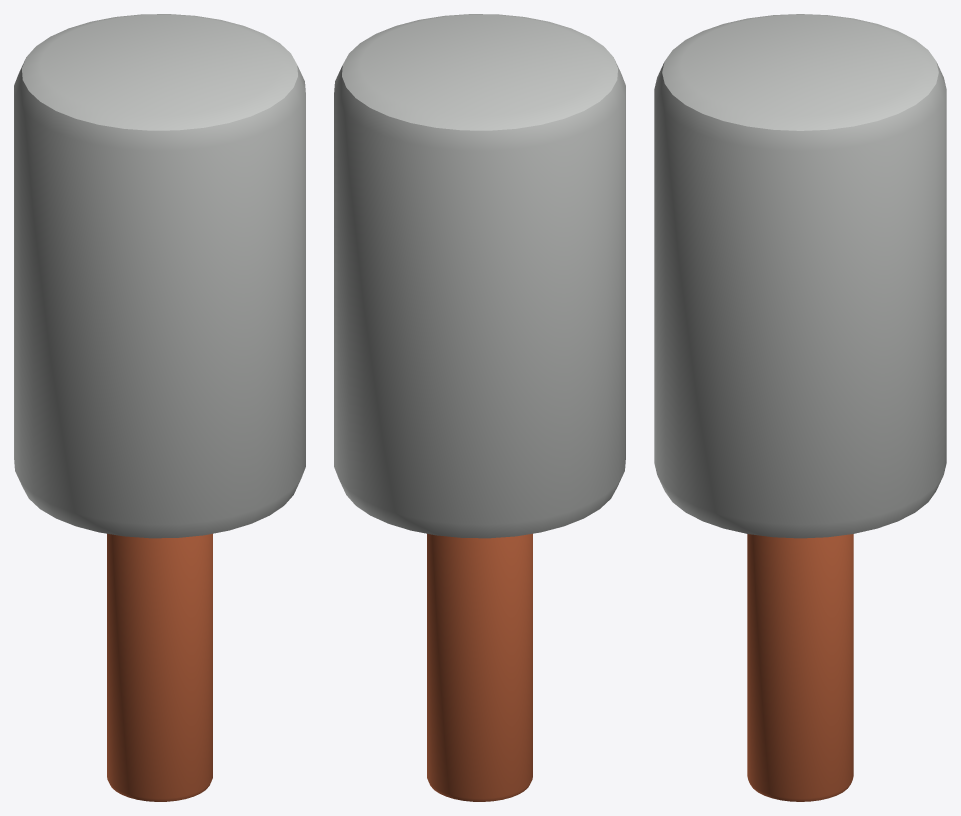
File: stud_welding_gun_stud_chuck.glb
3 renders of one model, left to right at view 1: azimuth 30°, elevation 25°; view 2: azimuth 150°, elevation 25°; view 3: azimuth 270°, elevation 25°, orthographic.
Visible parts, largest first — view 1: stud_welding_gun_stud_chuck; view 2: stud_welding_gun_stud_chuck; view 3: stud_welding_gun_stud_chuck.
Part boxes in pixels (bbox=[...]): stud_welding_gun_stud_chuck: bbox=[14, 14, 305, 801]; stud_welding_gun_stud_chuck: bbox=[334, 14, 625, 801]; stud_welding_gun_stud_chuck: bbox=[654, 14, 946, 801].
Bounding box in the file's own units: 0.022 × 0.0595 × 0.022.
